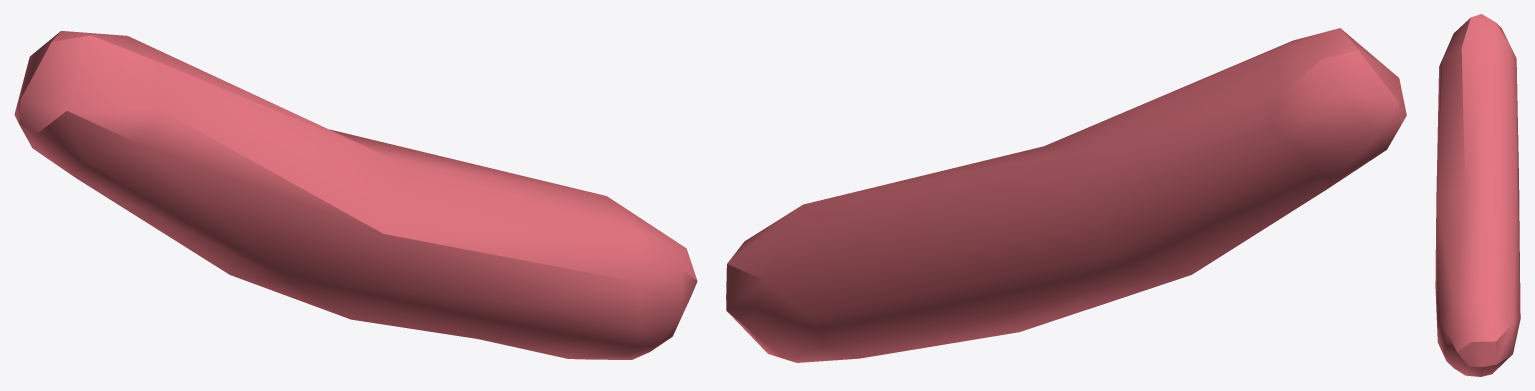
The model's file is fma68928_fj3029.glb.
The picture shows the model from 3 angles, left to right: view 1: azimuth 30°, elevation 25°; view 2: azimuth 150°, elevation 25°; view 3: azimuth 270°, elevation 25°; orthographic projection. The views are drawn at different scales.
Parts seen in each view (by area): view 1: FMA68928_FJ3029; view 2: FMA68928_FJ3029; view 3: FMA68928_FJ3029.
Part boxes in pixels (x1,y1,x2,y2): FMA68928_FJ3029: [14, 31, 697, 359]; FMA68928_FJ3029: [726, 28, 1406, 362]; FMA68928_FJ3029: [1435, 14, 1520, 376].
Size of the model in its own units: 0.0116 by 0.00753 by 0.00256.
